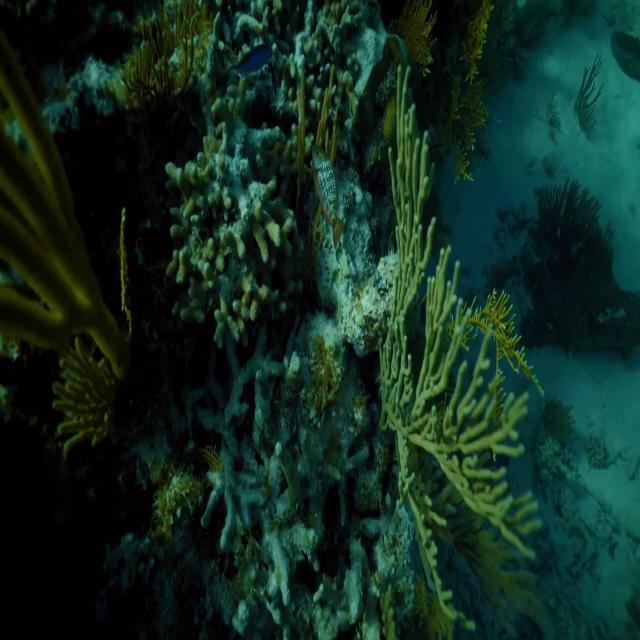fish: (308, 138, 347, 238)
